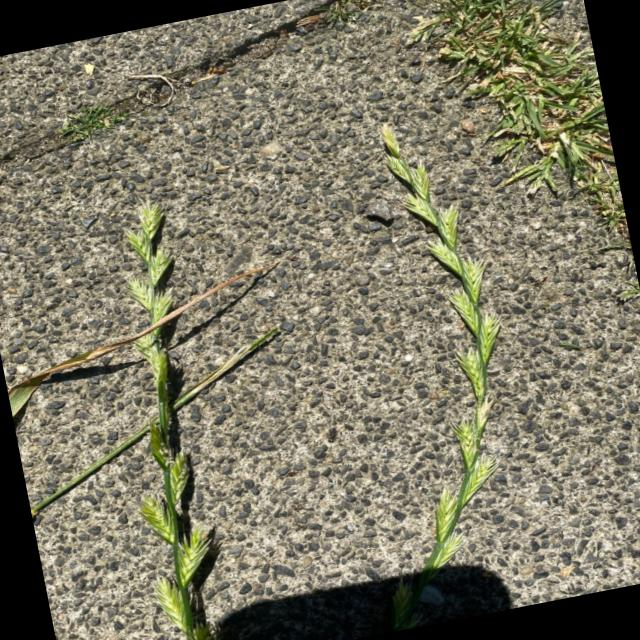Lolium: (0, 174, 362, 640), (298, 105, 560, 627)
